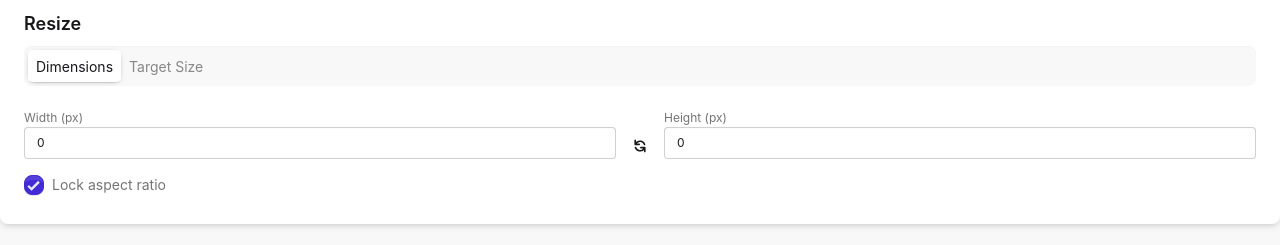
ResizeControls Component › should render target size input in filesize mode
The image size is (1280, 245).
Click the tab "Target Size" at (166, 66), box [129,58,203,74]
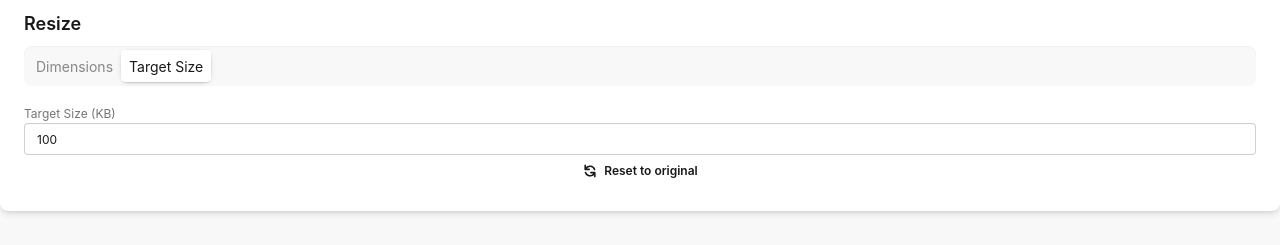
Expected: the number of number fields is 1, [24,123,1256,155]
